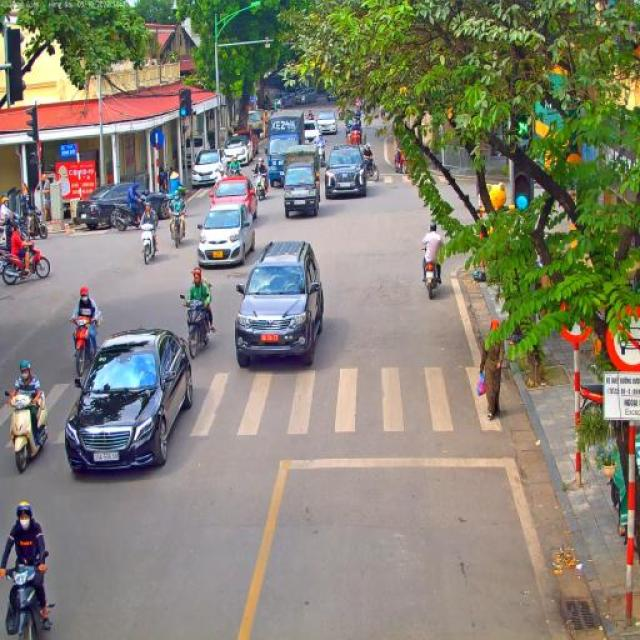car: (64, 326, 194, 476), (234, 240, 324, 368), (75, 181, 175, 230), (196, 202, 256, 269), (323, 142, 368, 198), (208, 174, 258, 220), (192, 150, 228, 188), (221, 134, 250, 167), (232, 128, 258, 161), (318, 107, 338, 135), (274, 91, 300, 109), (303, 120, 321, 144), (294, 87, 318, 105)
motorcycle: (0, 550, 54, 640), (4, 389, 48, 473), (0, 236, 51, 285), (71, 315, 103, 377), (180, 293, 209, 359), (110, 194, 150, 232), (15, 206, 49, 242), (138, 220, 158, 264), (0, 209, 21, 245), (166, 186, 189, 218), (423, 256, 439, 300), (168, 210, 186, 249), (362, 154, 379, 182), (394, 148, 410, 174), (254, 172, 267, 202), (345, 128, 360, 148), (316, 146, 328, 166), (338, 111, 344, 121)
truck: (265, 108, 305, 187), (284, 146, 321, 218), (248, 110, 264, 139)
